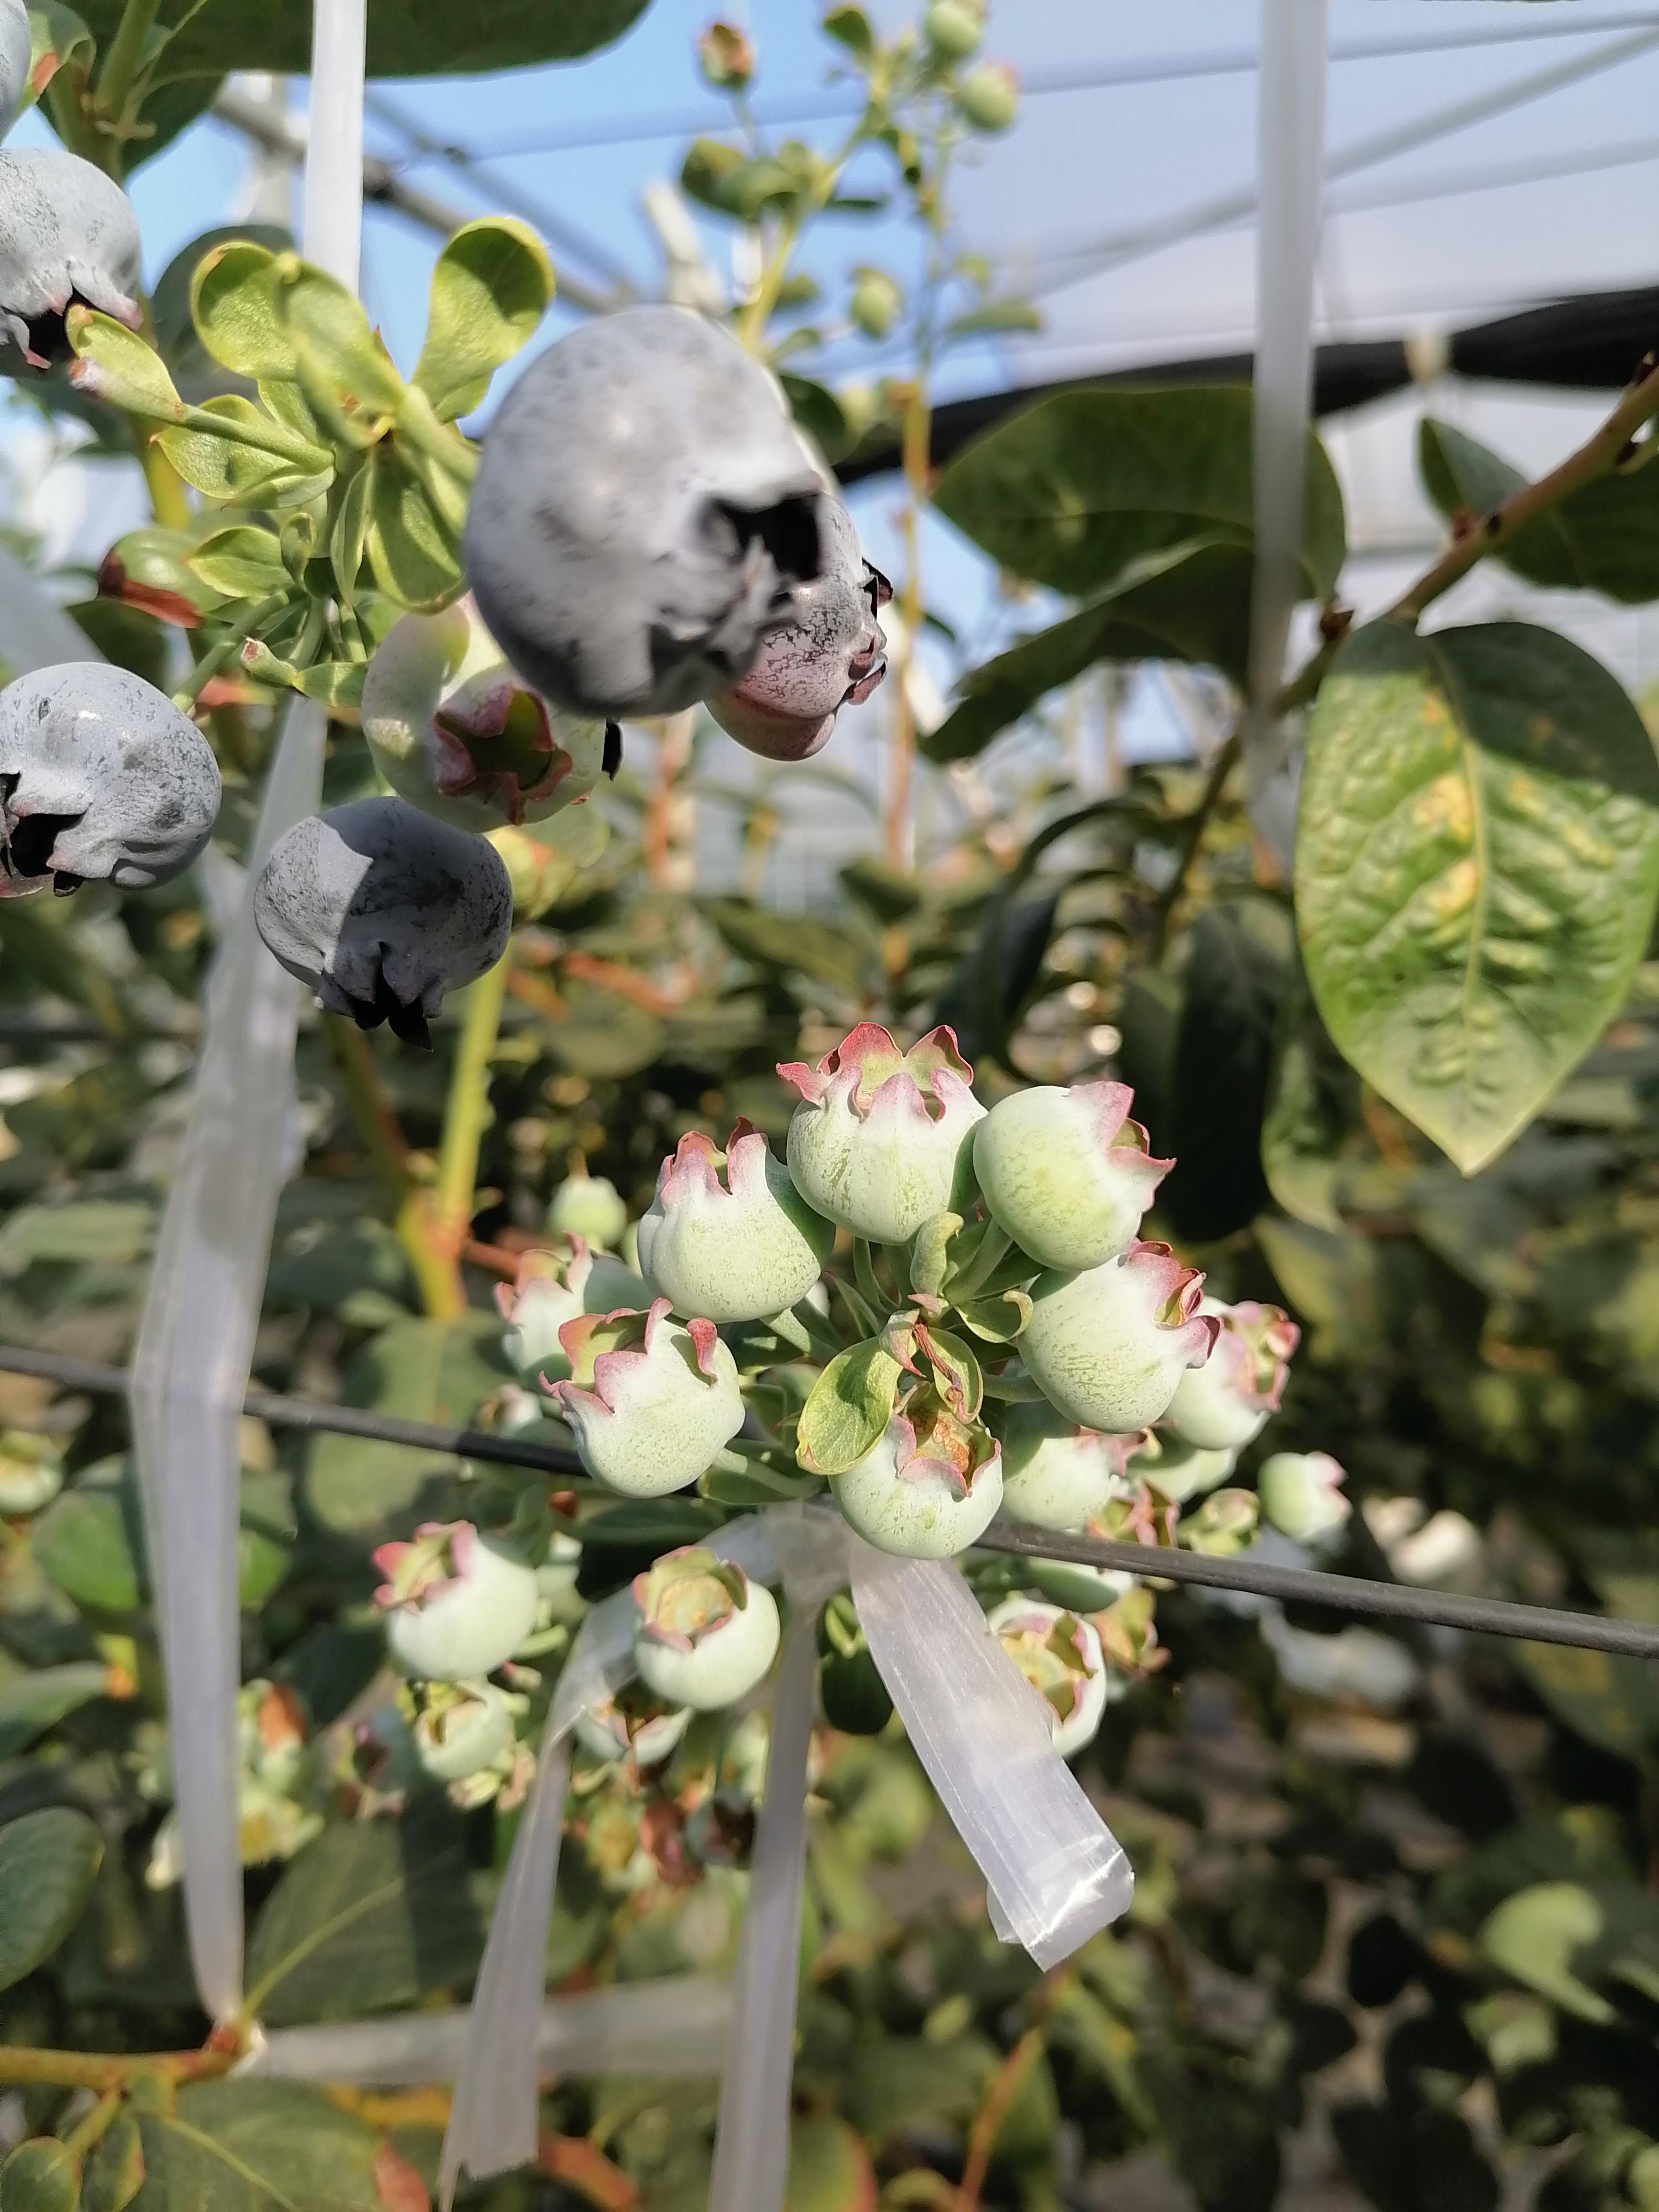ripe-blueberries: (458, 300, 826, 719), (254, 794, 516, 1052), (0, 657, 223, 899), (0, 145, 143, 368)
